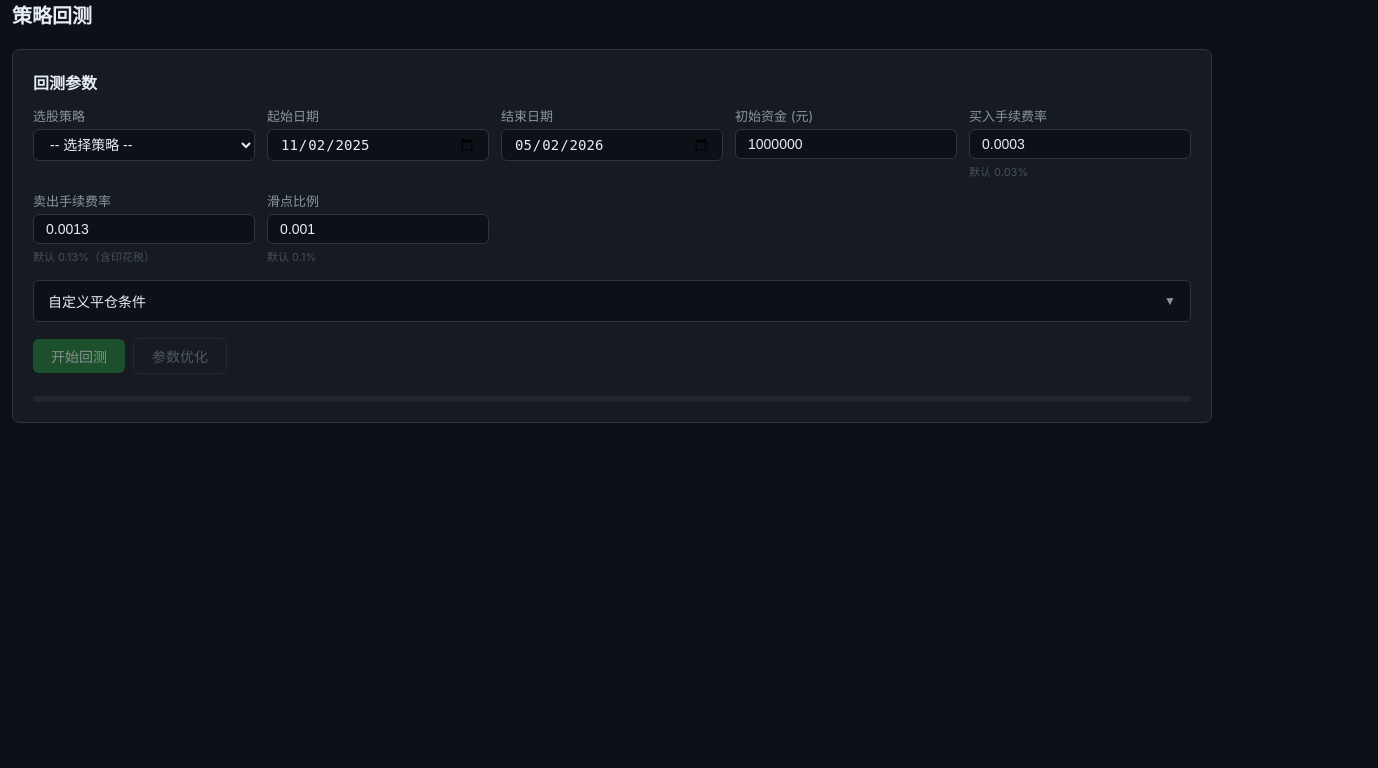
Test case: BacktestView - 系统模版视觉区分 › 管理面板中系统模版不显示重命名和删除按钮
Click the button "自定义平仓条件 ▼" at (97, 302), box [34,281,1190,321]
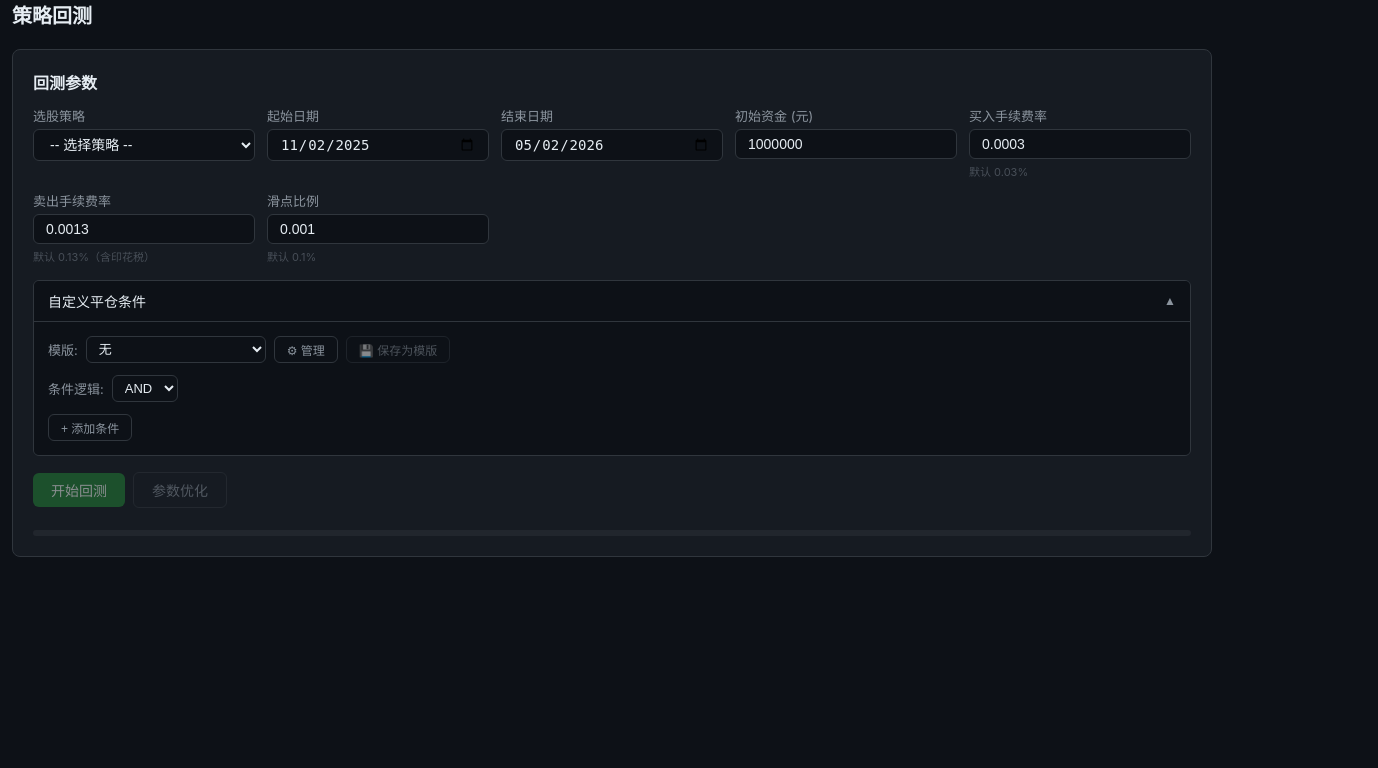
Click the button with aria-label "管理模版" at (306, 350), box [274,336,338,363]
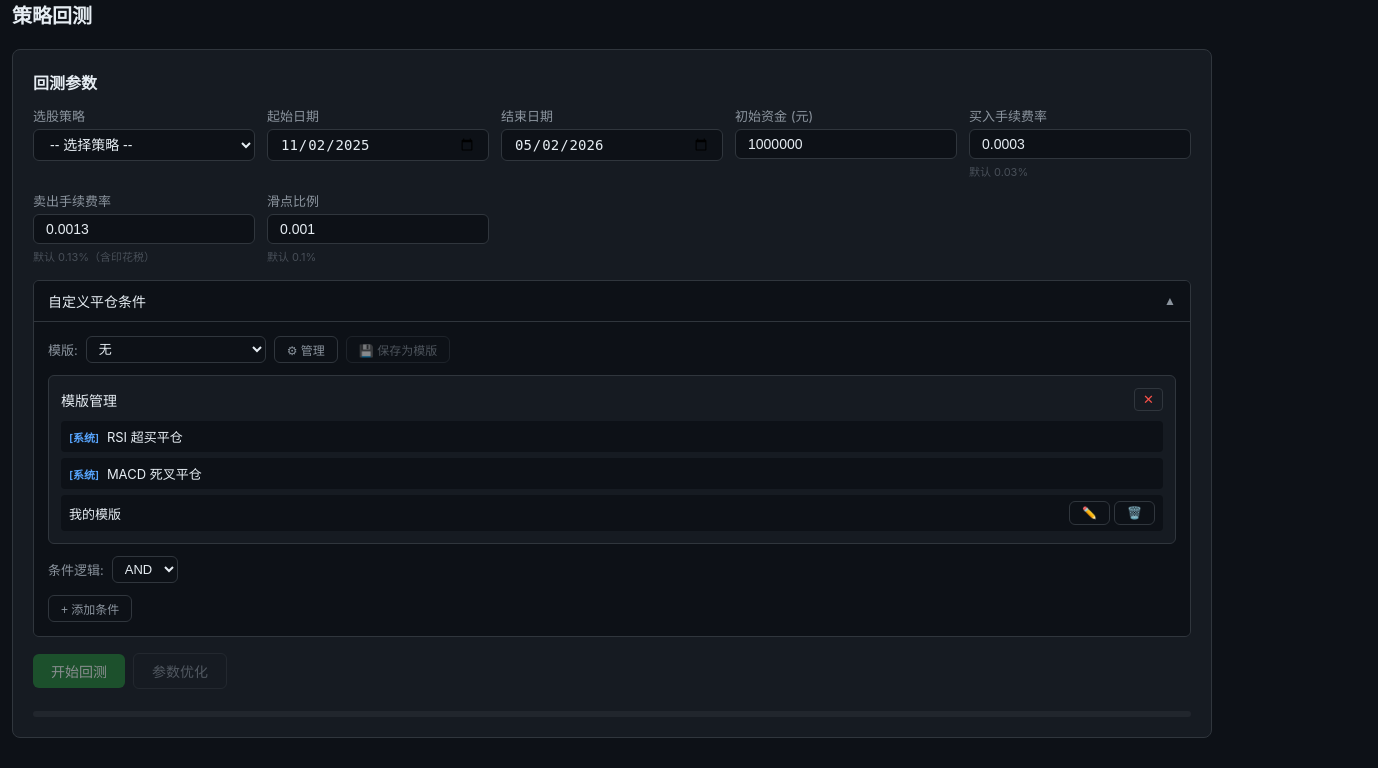
Result: the element with class "manage-panel" is shown at [48,375,1176,544]
Result: the number of elements with class "manage-item" is 3 at [61,421,1163,452]; [61,458,1163,489]; [61,495,1163,531]
Result: the number of elements with class "system-tag" is 2 at [69,429,99,445]; [69,466,99,482]
